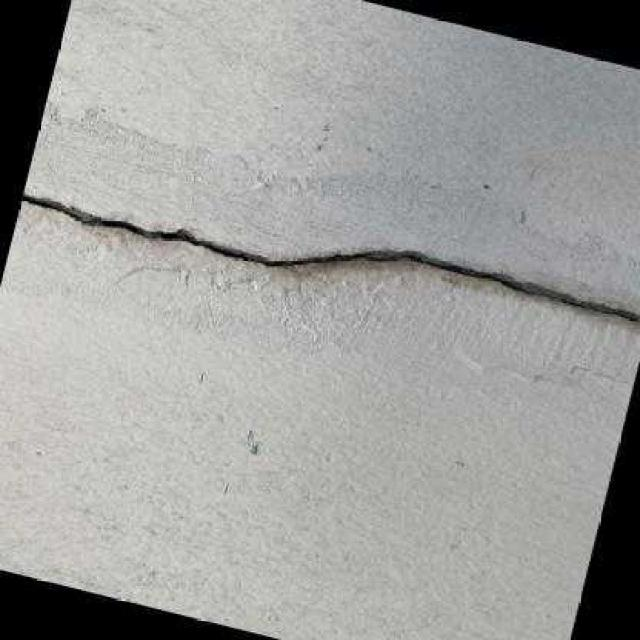D00: (20, 194, 640, 326)
